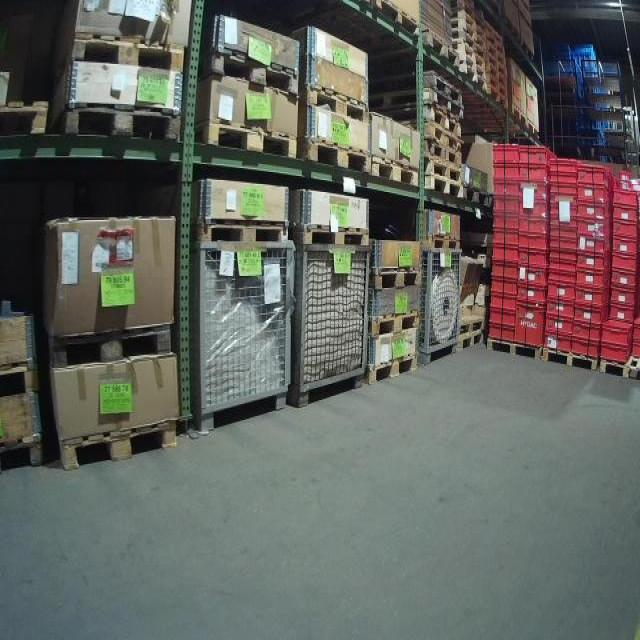pallet: (58, 418, 181, 474), (48, 320, 174, 371), (56, 33, 186, 78), (199, 45, 300, 98), (54, 104, 184, 143), (195, 117, 298, 160), (298, 82, 371, 127), (191, 217, 290, 249), (295, 138, 375, 177), (290, 220, 370, 249), (0, 96, 49, 140), (373, 0, 421, 41), (365, 350, 418, 387), (370, 153, 422, 190), (0, 437, 49, 473), (0, 359, 42, 399), (366, 262, 424, 290), (422, 28, 460, 69), (540, 346, 599, 372), (367, 308, 419, 337), (485, 337, 542, 362), (597, 357, 639, 381), (427, 92, 464, 119), (427, 76, 462, 102), (427, 110, 462, 133), (425, 232, 462, 253), (427, 177, 462, 198), (425, 161, 461, 181), (427, 145, 463, 165), (428, 128, 463, 148), (462, 187, 490, 209), (456, 330, 484, 351), (457, 312, 485, 331), (486, 88, 508, 110), (463, 70, 485, 91), (509, 104, 528, 128), (507, 20, 522, 45), (463, 26, 486, 41), (488, 70, 510, 85), (460, 11, 484, 24), (520, 40, 534, 62), (488, 79, 508, 94), (487, 49, 510, 62), (465, 60, 486, 74), (464, 37, 483, 52), (527, 119, 539, 139), (465, 48, 481, 62), (489, 60, 507, 71), (488, 41, 500, 48)
small_load_carrier: (515, 300, 546, 346), (519, 147, 558, 165), (604, 321, 631, 347), (578, 163, 608, 186), (608, 288, 638, 310), (575, 304, 609, 323), (515, 285, 544, 307), (490, 141, 521, 161), (576, 234, 608, 253), (516, 236, 546, 256), (575, 323, 610, 340), (489, 295, 518, 315), (516, 268, 545, 288), (576, 217, 610, 234), (517, 251, 549, 269), (576, 270, 608, 288), (576, 253, 608, 270), (519, 165, 546, 185), (518, 185, 546, 204), (575, 186, 608, 202), (575, 288, 608, 304), (575, 202, 610, 217), (548, 298, 575, 317), (609, 259, 637, 277), (613, 222, 637, 243), (575, 340, 600, 360), (492, 161, 521, 178), (489, 278, 518, 295), (614, 190, 637, 211), (545, 317, 575, 333), (518, 204, 544, 222), (600, 346, 631, 361), (545, 333, 568, 353), (493, 194, 520, 211), (609, 306, 636, 323), (492, 178, 520, 194), (489, 262, 517, 278), (609, 243, 637, 259), (487, 328, 516, 343), (493, 211, 514, 231), (548, 161, 577, 175), (516, 222, 544, 236), (490, 313, 516, 328), (492, 247, 517, 262), (548, 251, 576, 264), (492, 231, 514, 247), (549, 184, 577, 196), (550, 226, 574, 240), (548, 284, 572, 298), (608, 277, 637, 288), (550, 214, 576, 226), (548, 240, 574, 251), (549, 264, 577, 274), (613, 211, 637, 222), (548, 196, 577, 205), (549, 175, 577, 184), (548, 205, 576, 214), (549, 273, 570, 285), (632, 320, 638, 341), (633, 341, 638, 357)
stillage: (185, 231, 300, 440), (290, 233, 378, 412), (415, 238, 469, 366)
